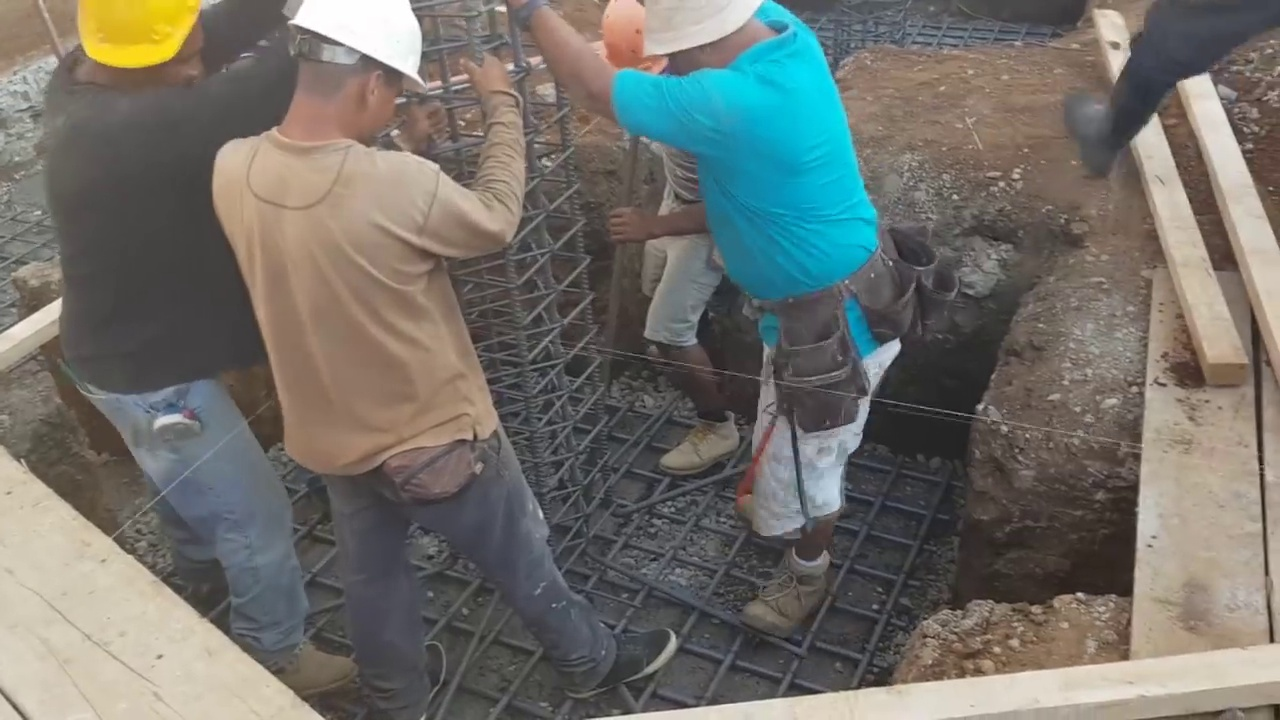helmet: (280, 5, 430, 92), (69, 3, 201, 68), (595, 5, 670, 73)
helmet-off: (641, 0, 761, 69)
helmet-on: (272, 0, 423, 153), (58, 0, 212, 106)
person: (218, 0, 679, 719), (510, 0, 903, 640), (37, 0, 360, 689), (593, 18, 745, 481)
